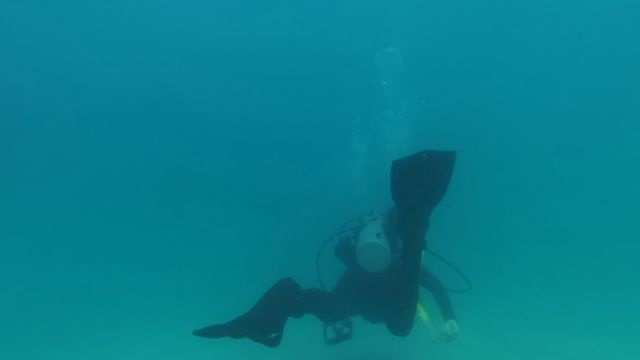Diver: (186, 140, 477, 356)
Hand: (435, 315, 462, 345)
